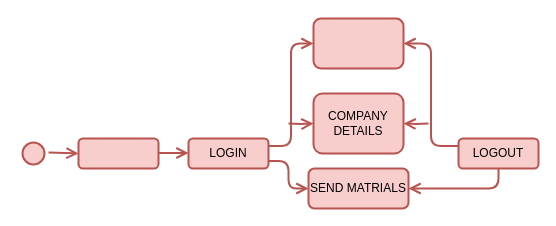
The diagram is 556 pixels wide and 226 high, and some of its shapes have lost their labels. Here are the shapes that lost their labels. From the top down, the centre of each, then its label:
pixel 358 43: REQUIREMENTS
pixel 118 153: VENDOR
